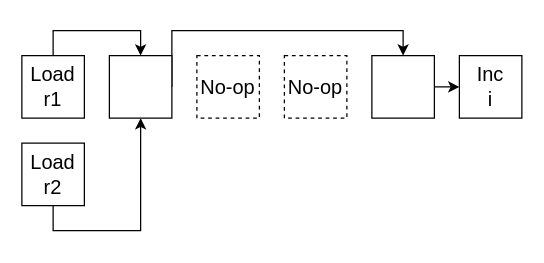
Some shapes in this 544 by 263 pixel diagram are drawn without their labels. Here are the shapes that lost their labels. From the top down, the centre of each, then its label:
the point at 140,86: Add r1,r2
the point at 402,86: Store a[i], r1
